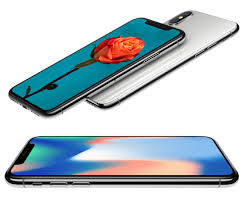iphone10: (4, 131, 239, 189)
